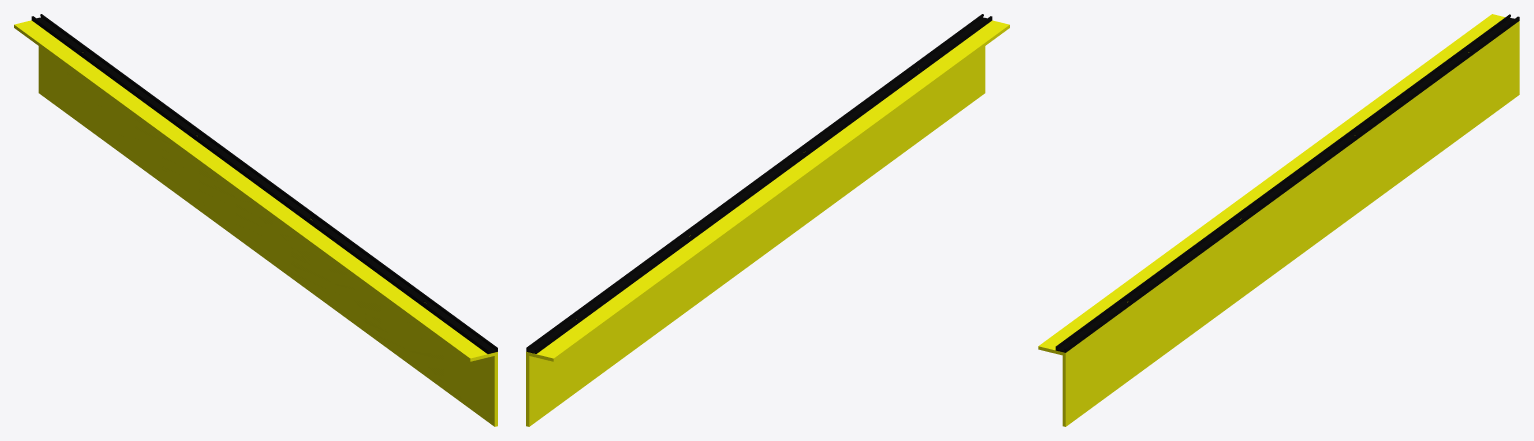
File: cover.glb
3 views of the same model, side by side, from view 1: azimuth 30°, elevation 25°; view 2: azimuth 150°, elevation 25°; view 3: azimuth 330°, elevation 25° (orthographic).
Visible parts, largest first — view 1: Zwischendeckel_10cm1, Group1; view 2: Zwischendeckel_10cm1, Group1; view 3: Zwischendeckel_10cm1, Group1.
Boxes of the visible parts, x1,y1,x2,y2 form: Zwischendeckel_10cm1: (14, 20, 497, 426); Group1: (31, 14, 497, 353); Zwischendeckel_10cm1: (526, 20, 1009, 426); Group1: (526, 14, 992, 353); Zwischendeckel_10cm1: (1038, 14, 1519, 426); Group1: (1055, 14, 1519, 352).
Size of the model in its own units: 0.035 by 0.0948 by 1.
Materials: 2 (1 with a texture image).
